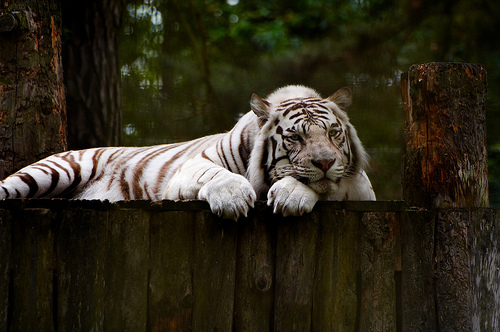Tigre: (17, 76, 388, 252)
